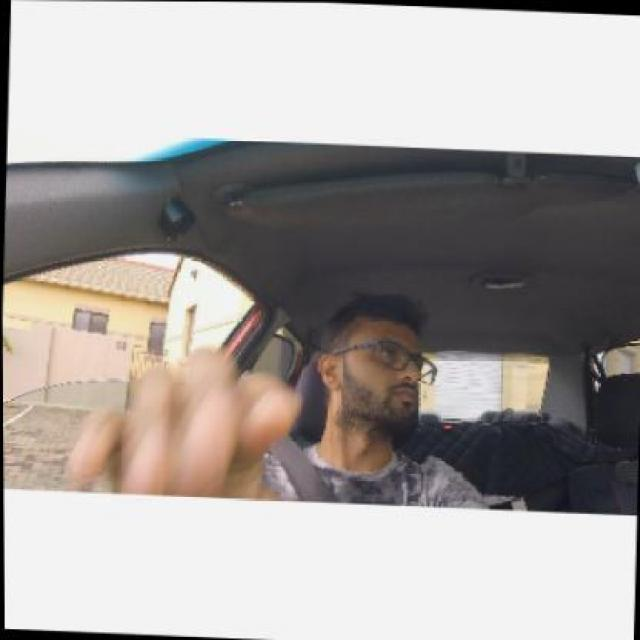person: (319, 297, 433, 423)
